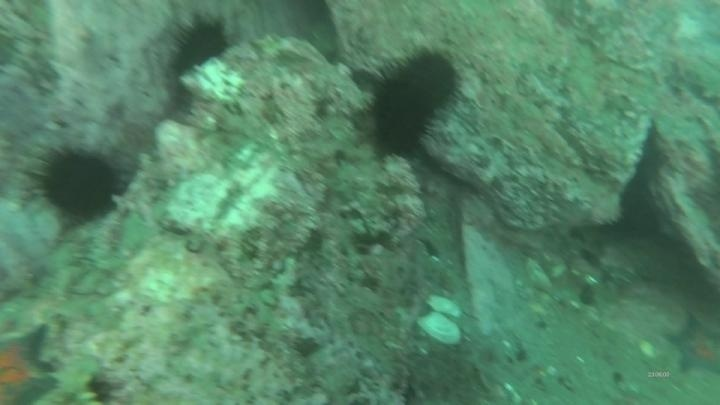echinus: (29, 143, 127, 227), (363, 72, 439, 161), (393, 45, 465, 113), (165, 15, 233, 82)
holothurian: (41, 354, 109, 404)
starfish: (1, 322, 61, 405), (662, 309, 720, 379)
